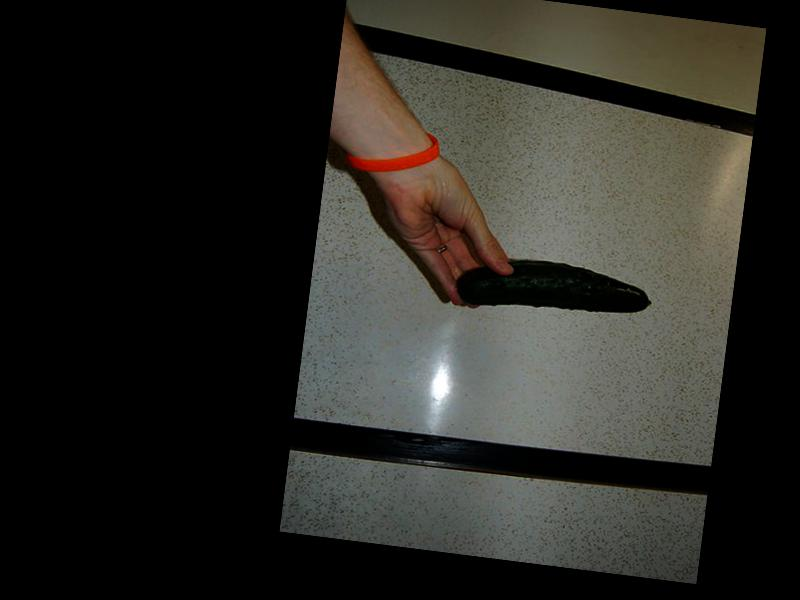Cucumber: (454, 252, 655, 327)
